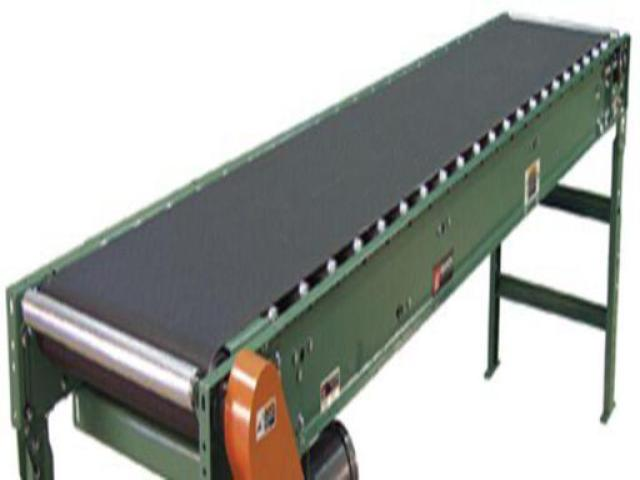conveyor: (1, 9, 635, 479)
